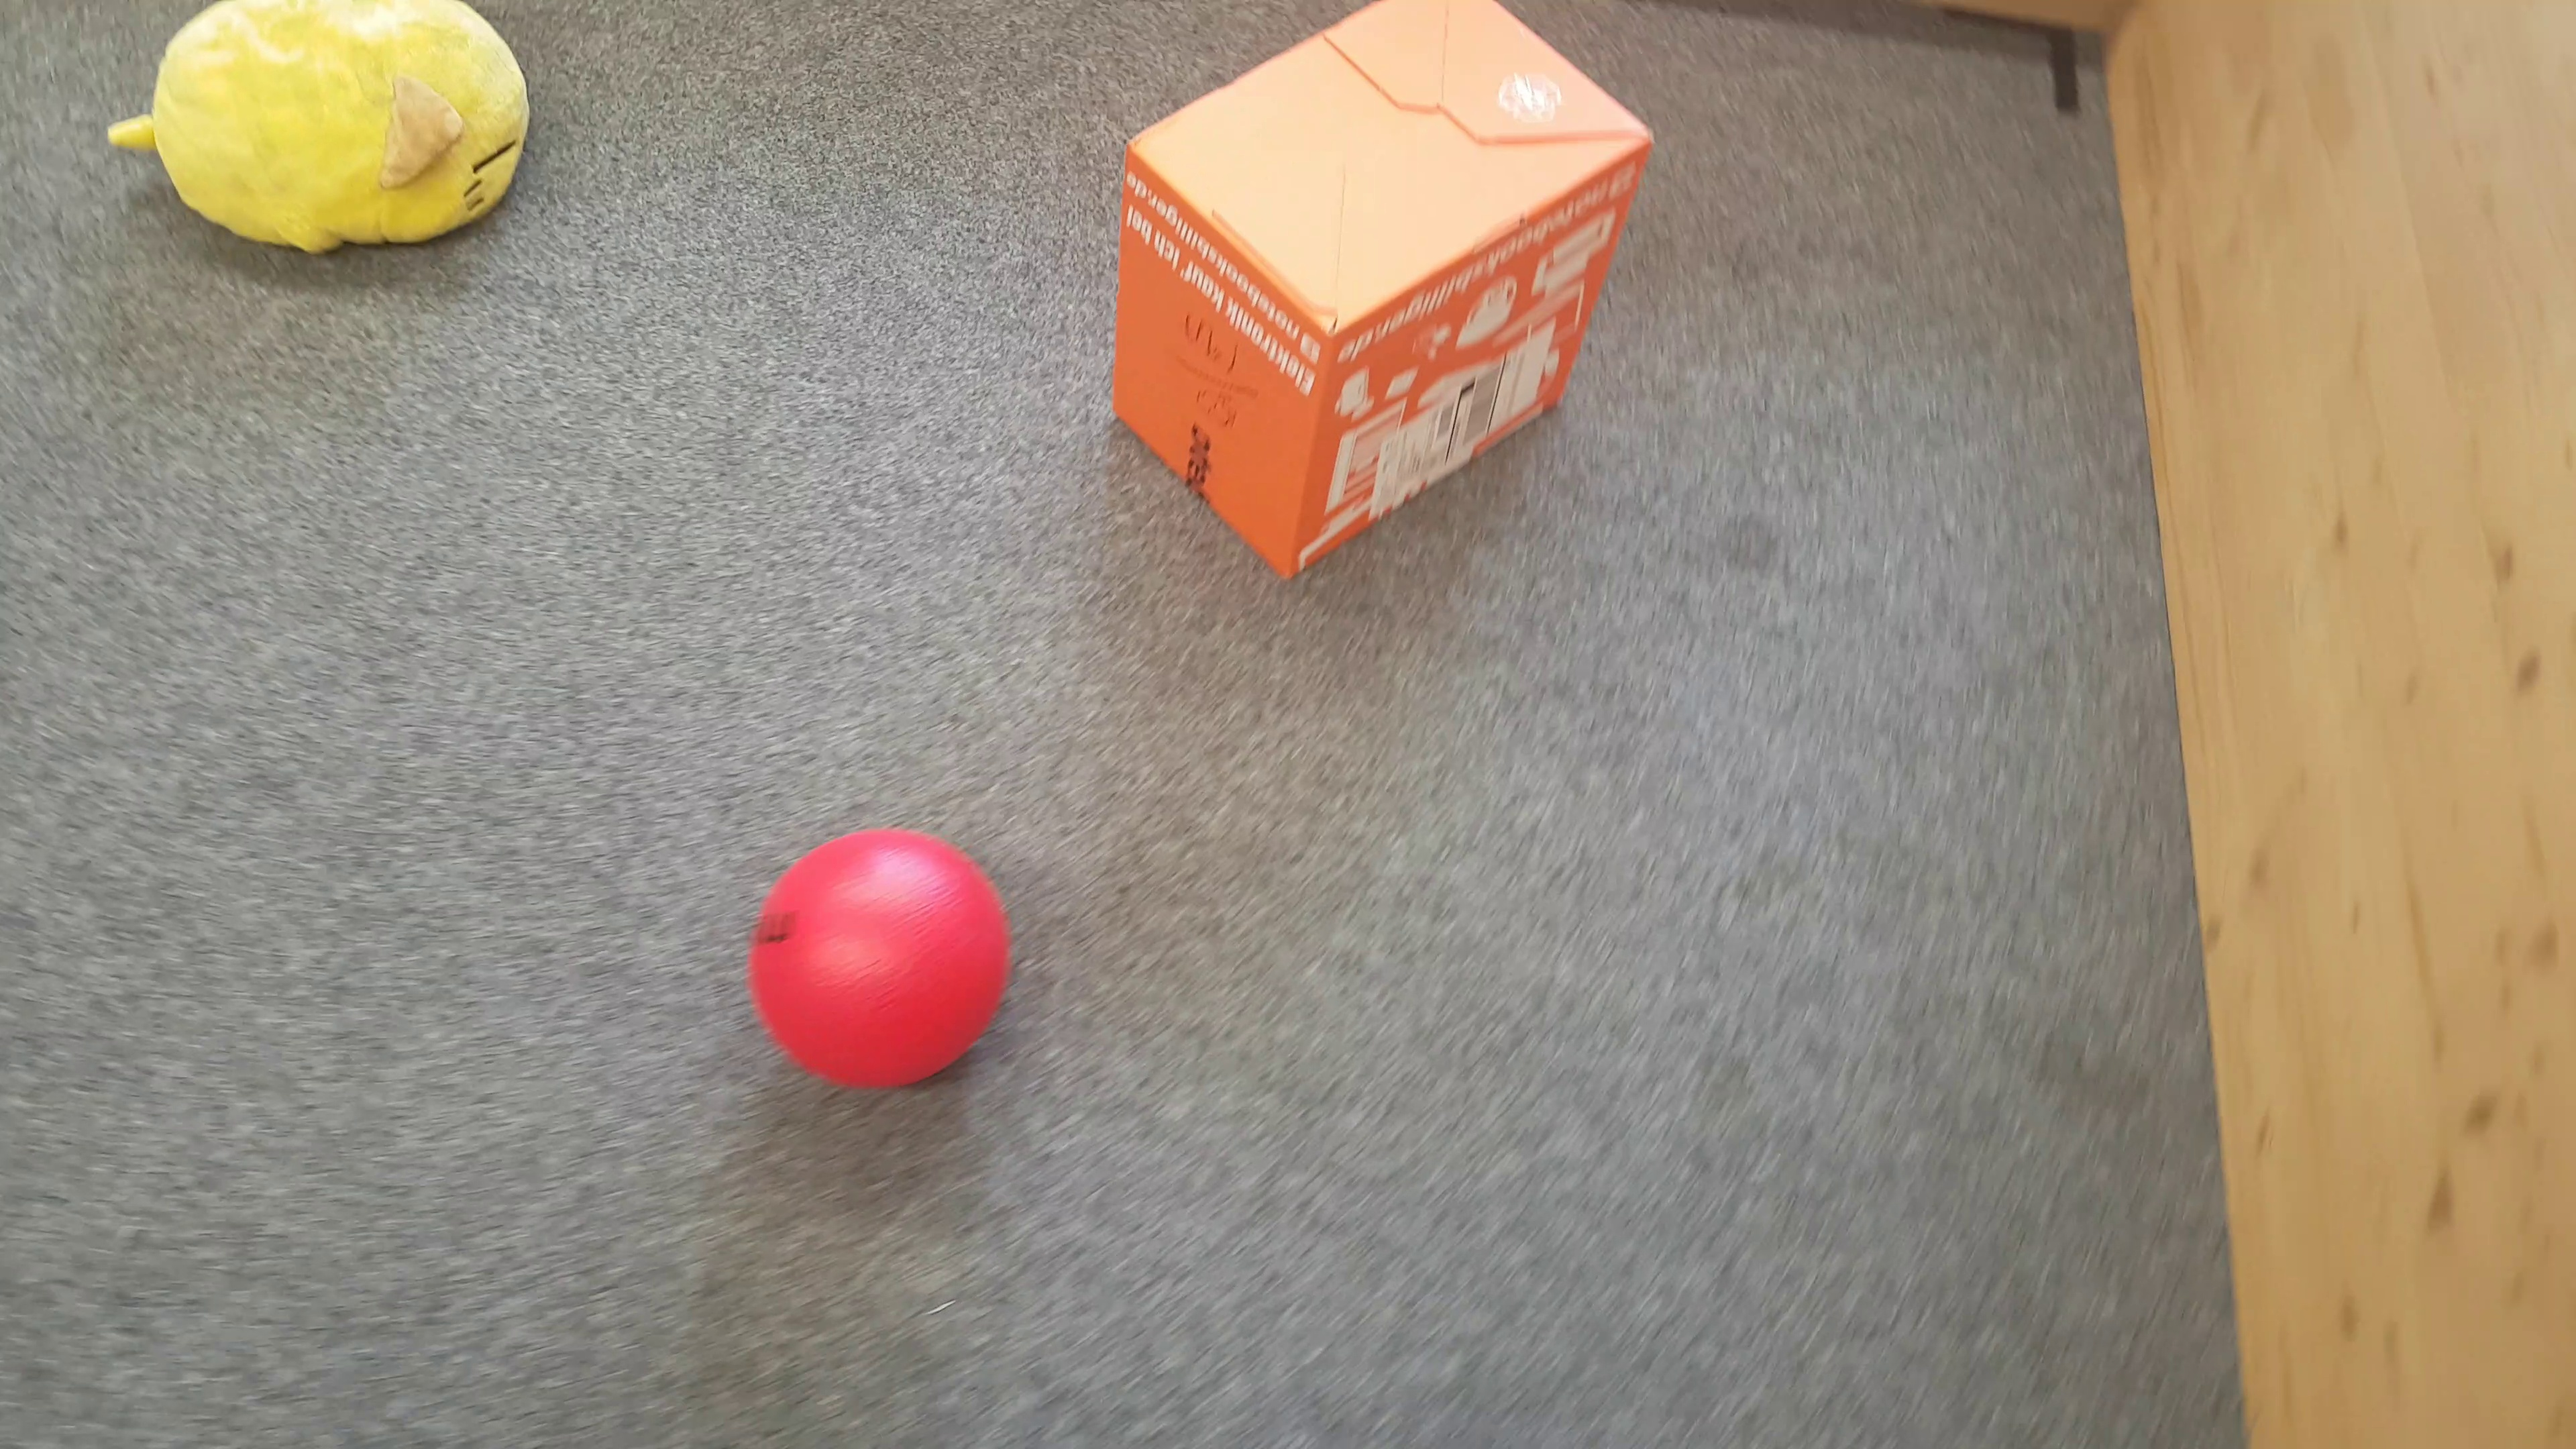grasp: (111, 4, 525, 249)
kick: (748, 824, 1016, 1100)
push: (1100, 0, 1656, 591)
